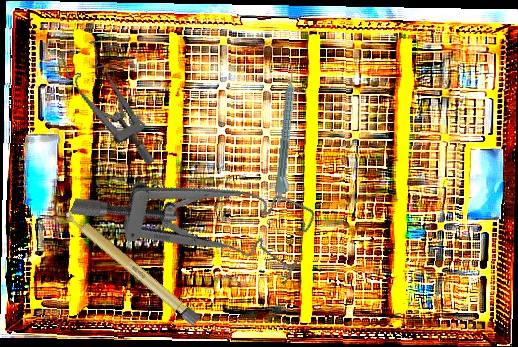Handpiece: (273, 65, 304, 204)
Scalpel Handle: (61, 206, 202, 327)
Speculum: (68, 122, 319, 305), (59, 33, 157, 180)
